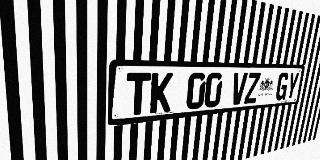0: (185, 73, 207, 110), (203, 73, 223, 108)
G: (275, 72, 290, 101)
K: (149, 73, 173, 114)
T: (125, 73, 151, 116)
V: (230, 73, 248, 105)
Y: (285, 72, 300, 100)
Z: (244, 73, 261, 104)
